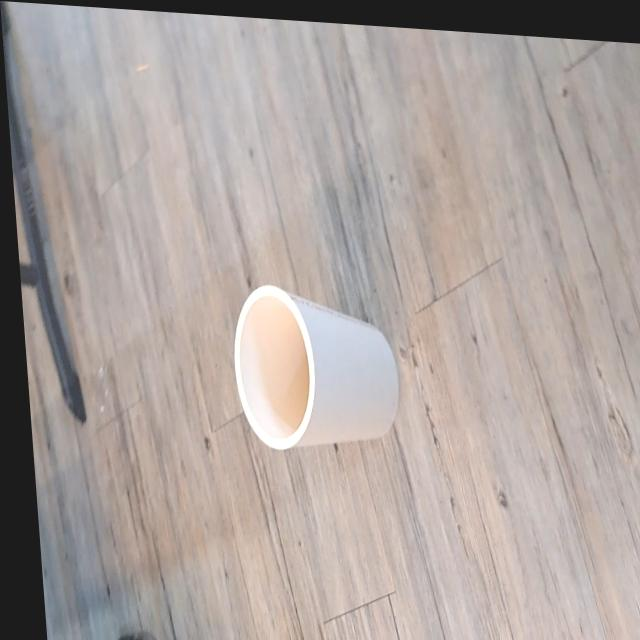CORAL: (199, 248, 413, 493)
